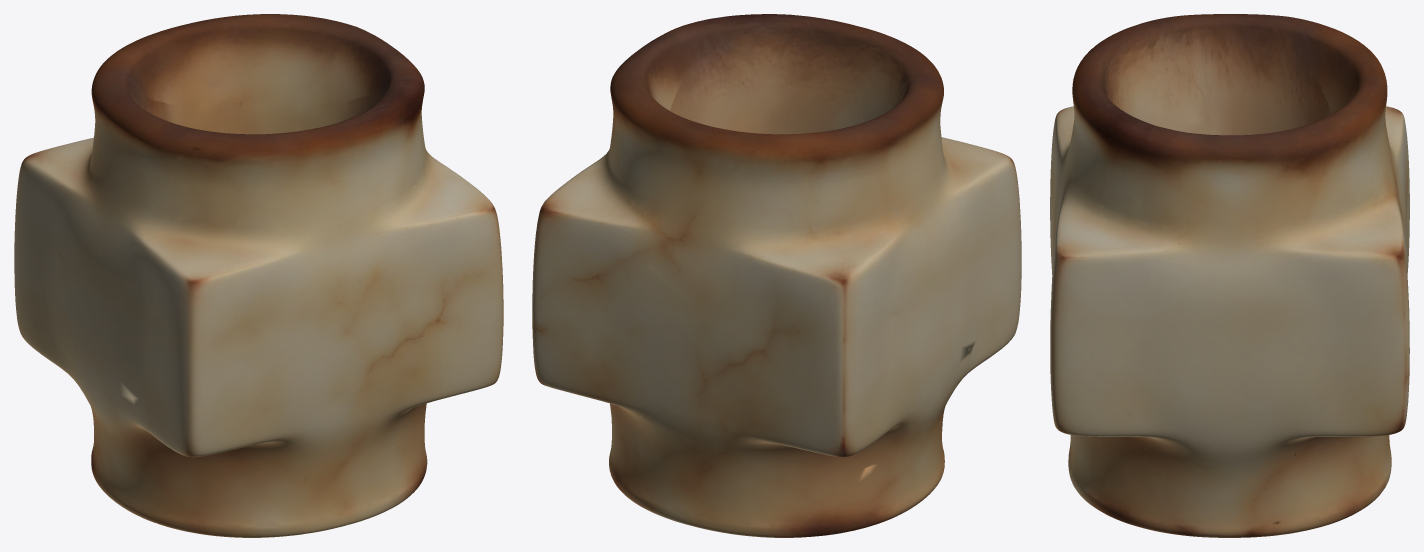
The model's file is jin-white-detail.glb.
3 renders of one model, left to right at view 1: azimuth 30°, elevation 25°; view 2: azimuth 150°, elevation 25°; view 3: azimuth 270°, elevation 25°, orthographic.
Parts seen in each view (by area): view 1: node_0; view 2: node_0; view 3: node_0.
Part boxes in pixels (x1=…): node_0: x1=14, y1=14, x2=503, y2=537; node_0: x1=532, y1=14, x2=1021, y2=537; node_0: x1=1050, y1=14, x2=1409, y2=537.
Bounding box in the file's own units: 0.8278 × 0.9576 × 0.7936.
1 material, 1 textured.
